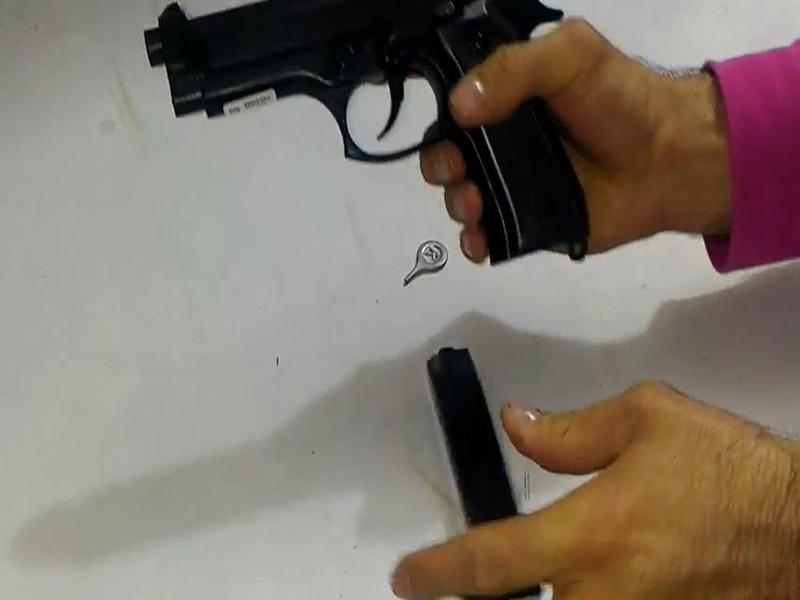Pistola: (130, 1, 626, 289)
